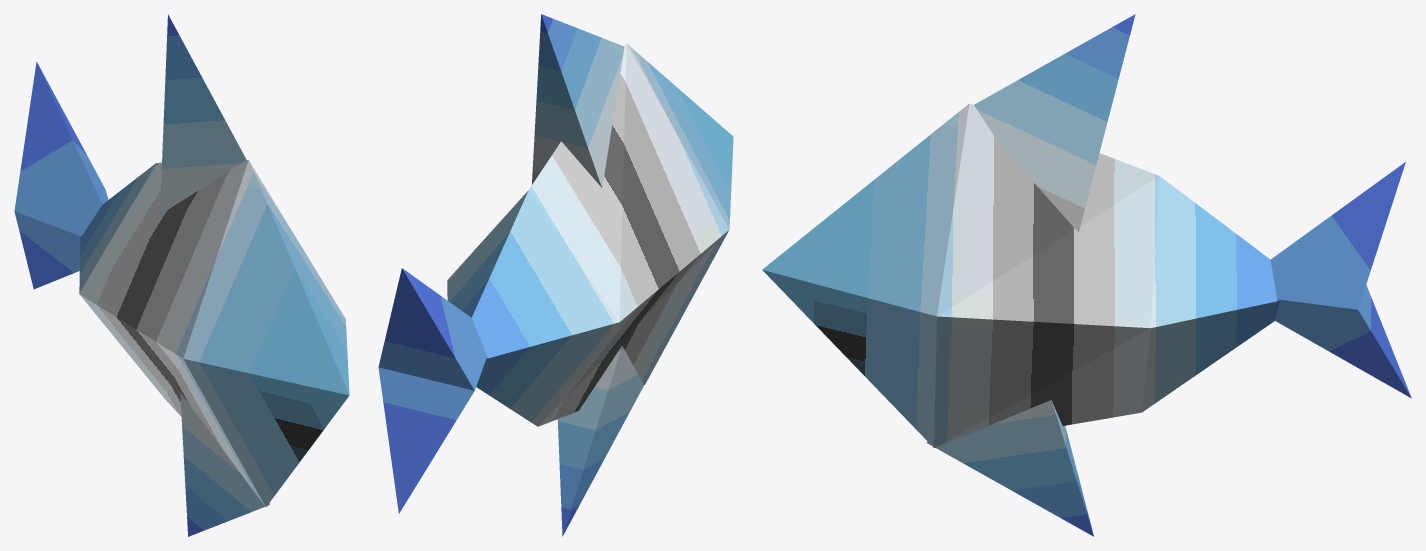
The model's file is fish.obj.
3 views of the same model, side by side, from view 1: azimuth 30°, elevation 25°; view 2: azimuth 150°, elevation 25°; view 3: azimuth 270°, elevation 25° (orthographic). The views are drawn at different scales.
Visible parts, largest first — view 1: skl_root, fin1; view 2: skl_root, fin1; view 3: skl_root, fin1.
Boxes of the visible parts, <box> form: skl_root: <box>14,14,349,536</box>; fin1: <box>14,63,108,289</box>; skl_root: <box>378,14,733,536</box>; fin1: <box>378,268,474,390</box>; skl_root: <box>762,14,1411,536</box>; fin1: <box>1270,162,1405,309</box>.
Size of the model in its own units: 2.66 by 7.94 by 8.94.
1 material, 1 textured.
